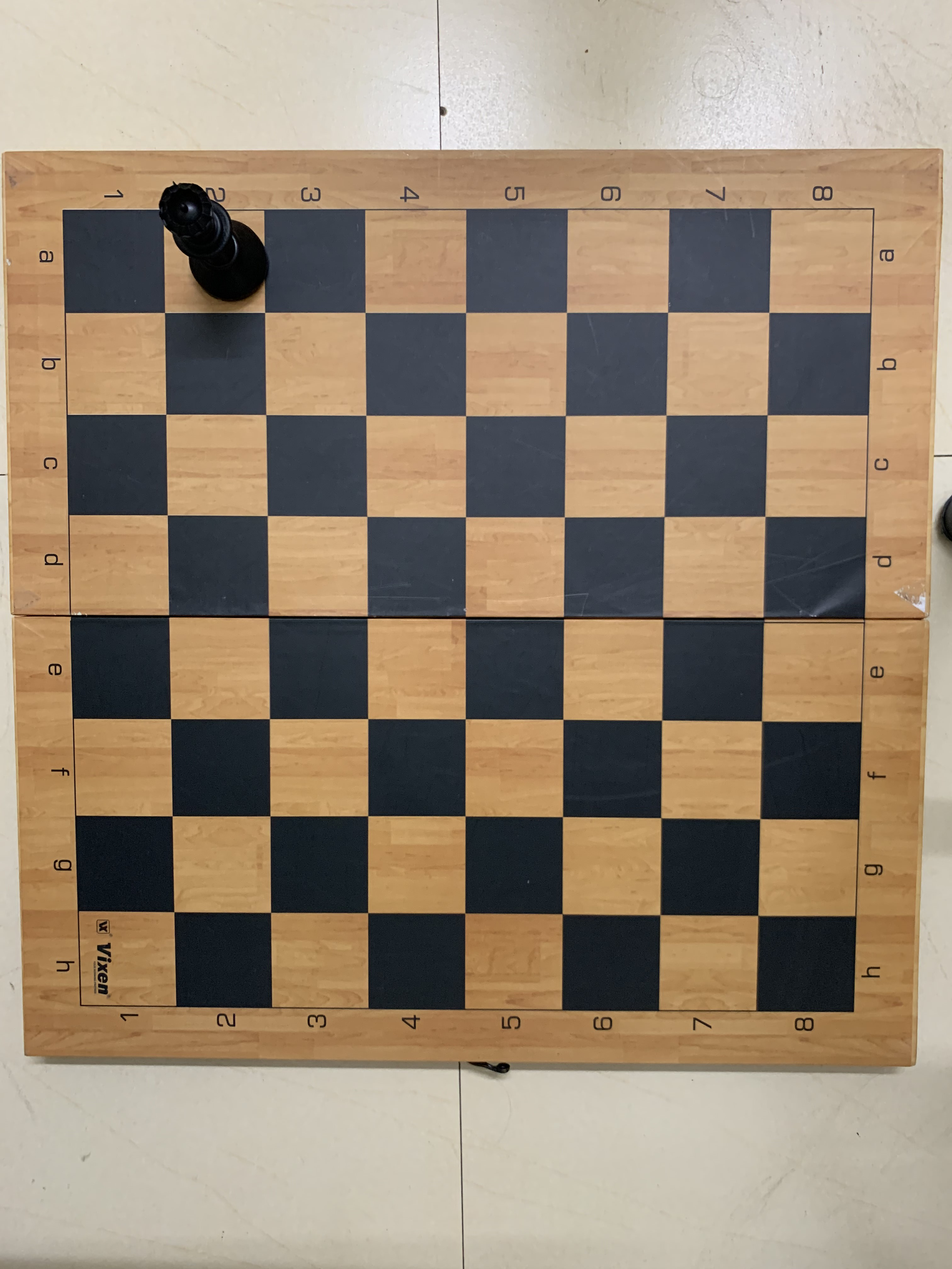black_queen: (149, 181, 274, 310)
